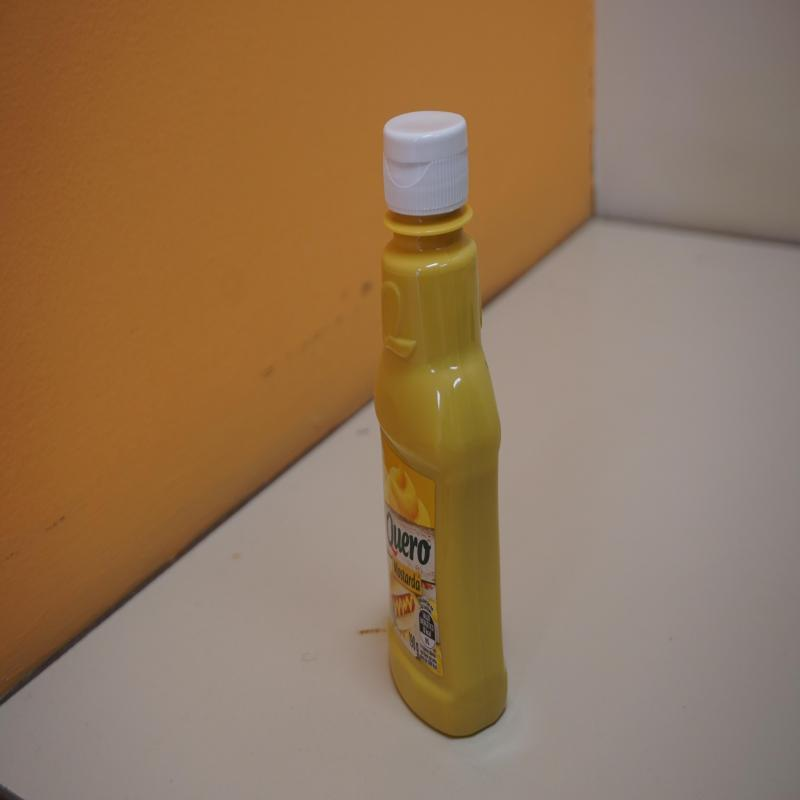Mustard: (372, 111, 509, 743)
